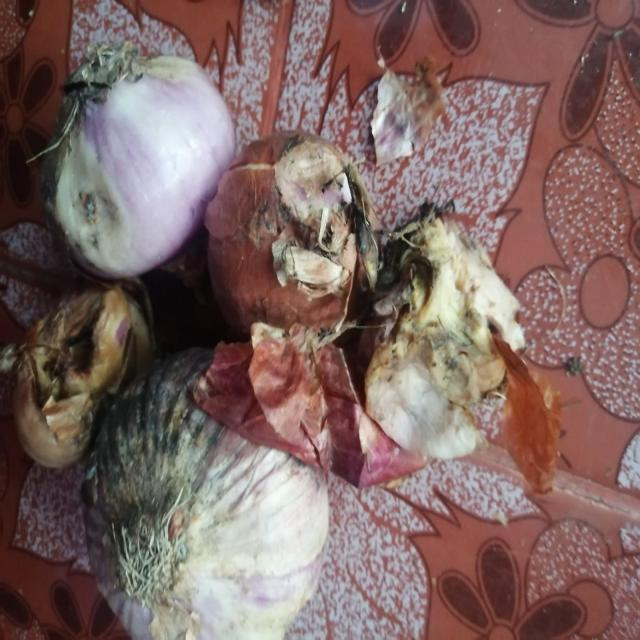rotten: (397, 238, 501, 352), (289, 172, 376, 284), (111, 412, 218, 487), (58, 148, 132, 236), (42, 316, 106, 396)
